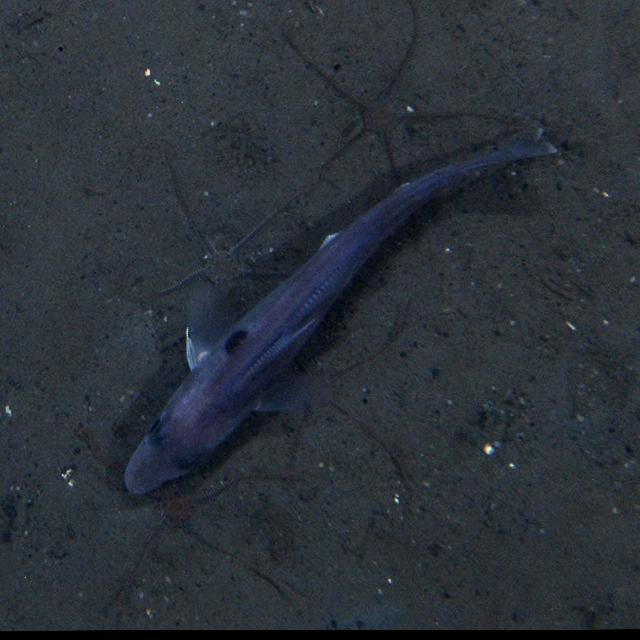roundfish: (112, 124, 562, 494)
